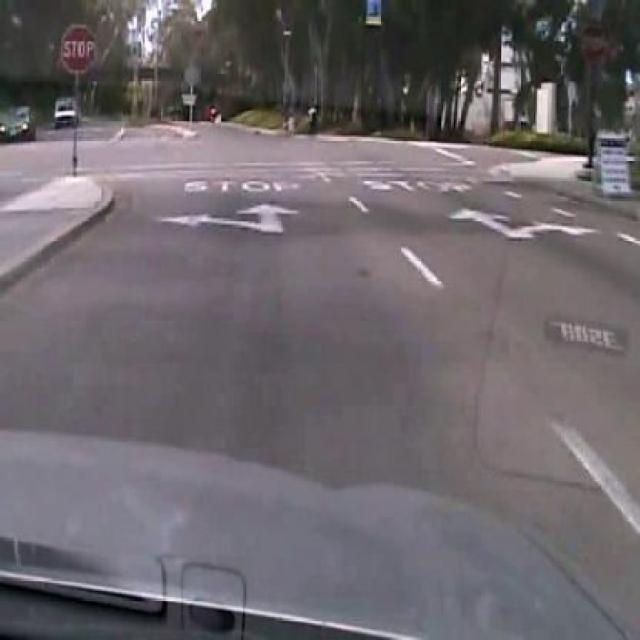Stop: (58, 24, 98, 79)
